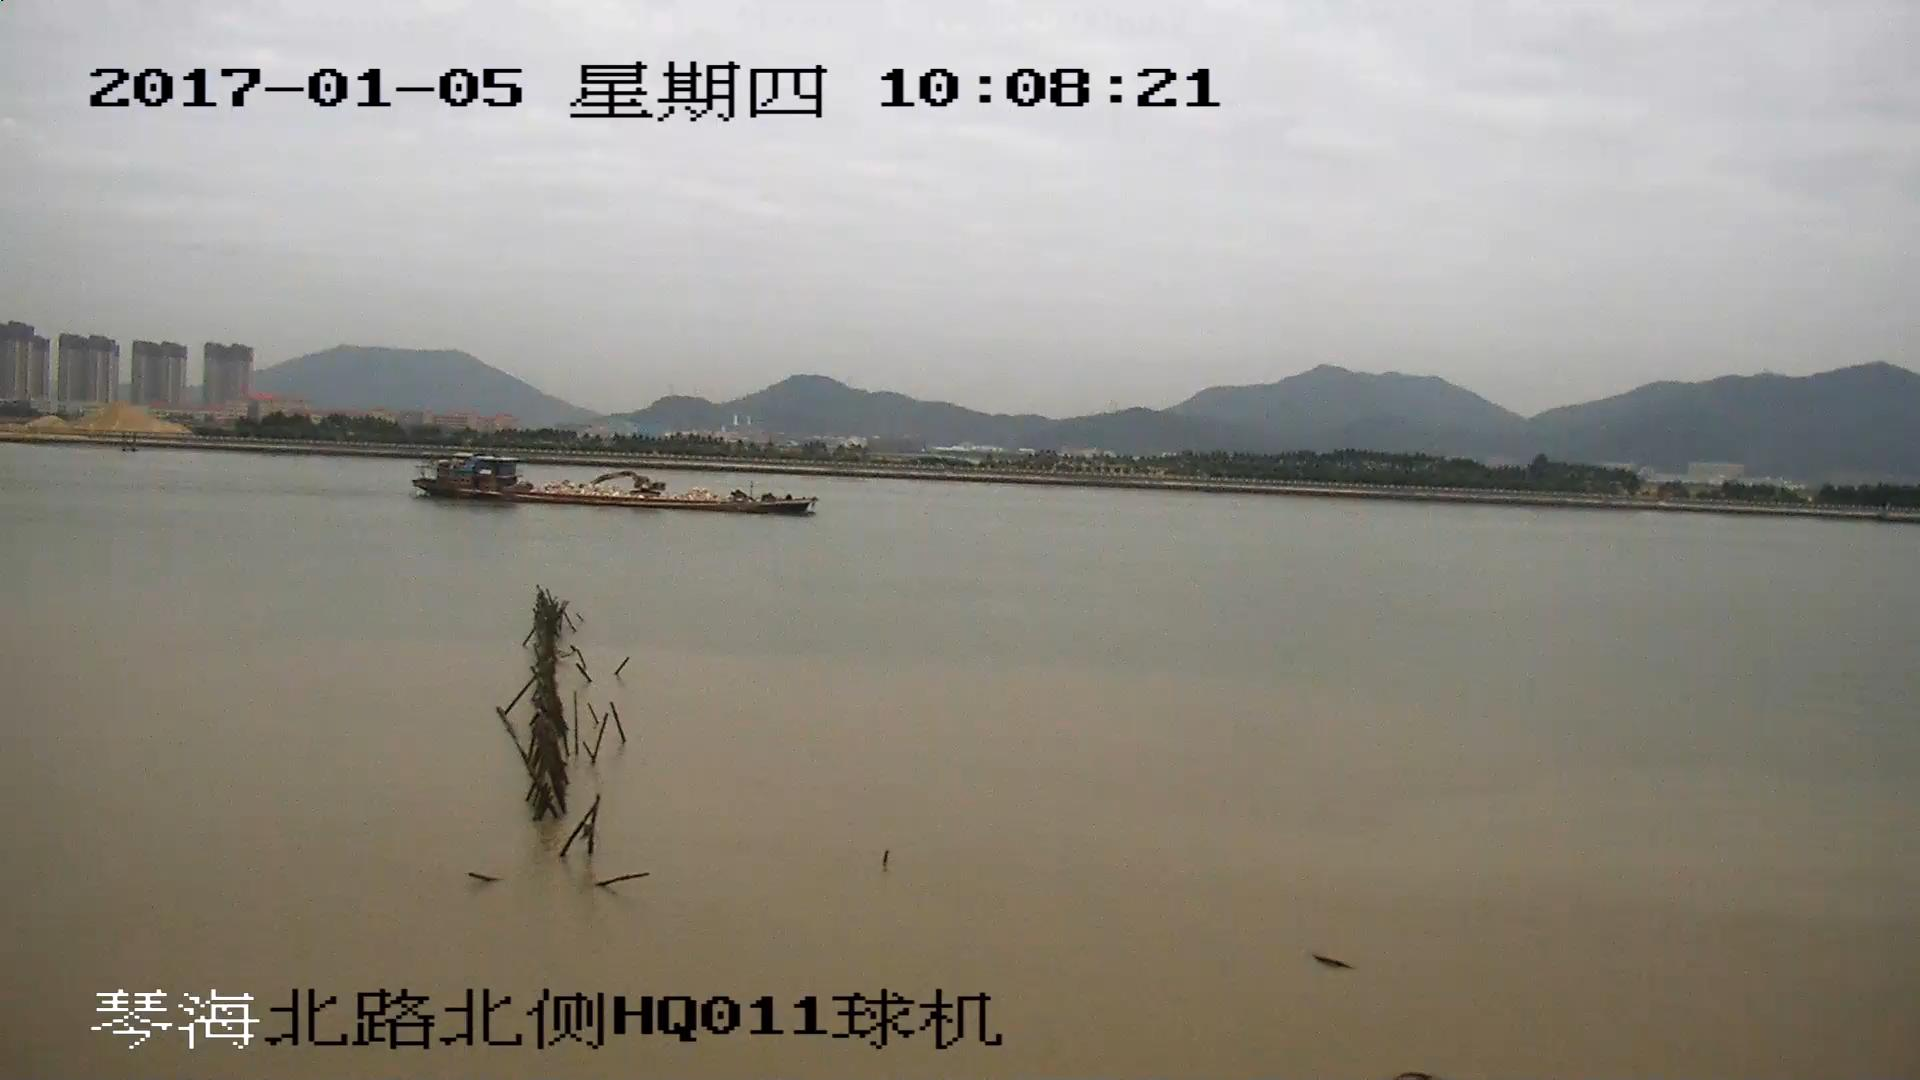bulk cargo carrier: (412, 452, 813, 513)
